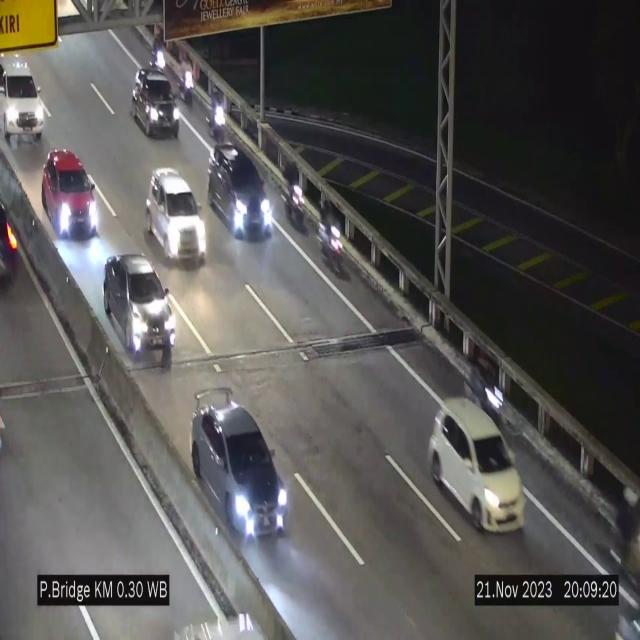Car: (190, 384, 292, 546), (428, 398, 526, 531), (208, 142, 276, 255), (105, 258, 175, 365), (145, 168, 207, 262), (42, 148, 100, 235), (0, 44, 48, 144), (132, 67, 178, 137)
Motorcycle: (471, 341, 503, 423), (317, 194, 346, 279), (285, 160, 307, 228), (208, 82, 228, 146), (179, 51, 195, 112), (154, 27, 168, 84)
